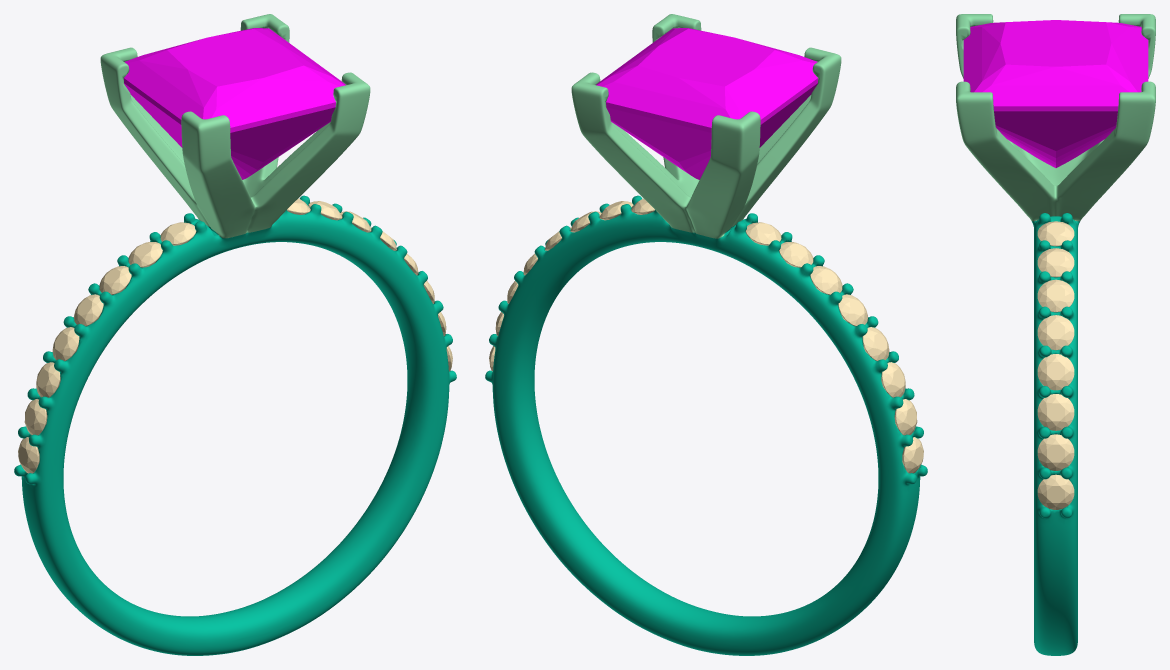
File: BE1PD25R25_PR_200ct_RENDER.glb
3 renders of one model, left to right at view 1: azimuth 30°, elevation 25°; view 2: azimuth 150°, elevation 25°; view 3: azimuth 270°, elevation 25°, orthographic.
Parts seen in each view (by area): view 1: Metal 01, CS_Diamond_Princess, Metal 02, Diamond_Round_Gem_SH.004, Diamond_Round_Gem_SH.003, Diamond_Round_Gem_SH.005, Diamond_Round_Gem_SH.002, Diamond_Round_Gem_SH.006; view 2: Metal 01, CS_Diamond_Princess, Metal 02, Diamond_Round_Gem_SH.004, Diamond_Round_Gem_SH.003, Diamond_Round_Gem_SH.005, Diamond_Round_Gem_SH.002, Diamond_Round_Gem_SH.006; view 3: CS_Diamond_Princess, Metal 02, Metal 01, Diamond_Round_Gem_SH.013, Diamond_Round_Gem_SH.014, Diamond_Round_Gem_SH.012, Diamond_Round_Gem_SH.015, Diamond_Round_Gem_SH.011, Diamond_Round_Gem_SH.010, Diamond_Round_Gem_SH.009, Diamond_Round_Gem_SH.008.
Boxes of the visible parts, <box> form: Metal 01: <box>14,195,456,655</box>; CS_Diamond_Princess: <box>123,28,345,179</box>; Metal 02: <box>100,14,370,238</box>; Diamond_Round_Gem_SH.004: <box>74,294,103,326</box>; Diamond_Round_Gem_SH.003: <box>52,327,79,361</box>; Diamond_Round_Gem_SH.005: <box>99,266,131,294</box>; Diamond_Round_Gem_SH.002: <box>36,362,60,397</box>; Diamond_Round_Gem_SH.006: <box>128,242,162,267</box>; Metal 01: <box>485,195,927,655</box>; CS_Diamond_Princess: <box>596,28,818,179</box>; Metal 02: <box>571,14,841,238</box>; Diamond_Round_Gem_SH.004: <box>838,294,867,326</box>; Diamond_Round_Gem_SH.003: <box>862,327,889,361</box>; Diamond_Round_Gem_SH.005: <box>810,266,842,294</box>; Diamond_Round_Gem_SH.002: <box>881,362,905,397</box>; Diamond_Round_Gem_SH.006: <box>779,242,813,267</box>; CS_Diamond_Princess: <box>963,20,1148,167</box>; Metal 02: <box>956,14,1155,221</box>; Metal 01: <box>1032,213,1079,655</box>; Diamond_Round_Gem_SH.013: <box>1037,394,1074,430</box>; Diamond_Round_Gem_SH.014: <box>1037,434,1074,470</box>; Diamond_Round_Gem_SH.012: <box>1037,354,1074,390</box>; Diamond_Round_Gem_SH.015: <box>1037,474,1074,509</box>; Diamond_Round_Gem_SH.011: <box>1037,315,1074,350</box>; Diamond_Round_Gem_SH.010: <box>1037,279,1074,312</box>; Diamond_Round_Gem_SH.009: <box>1037,248,1074,277</box>; Diamond_Round_Gem_SH.008: <box>1037,221,1074,246</box>.
Size of the model in its own units: 20.13 by 26.4 by 8.11.
